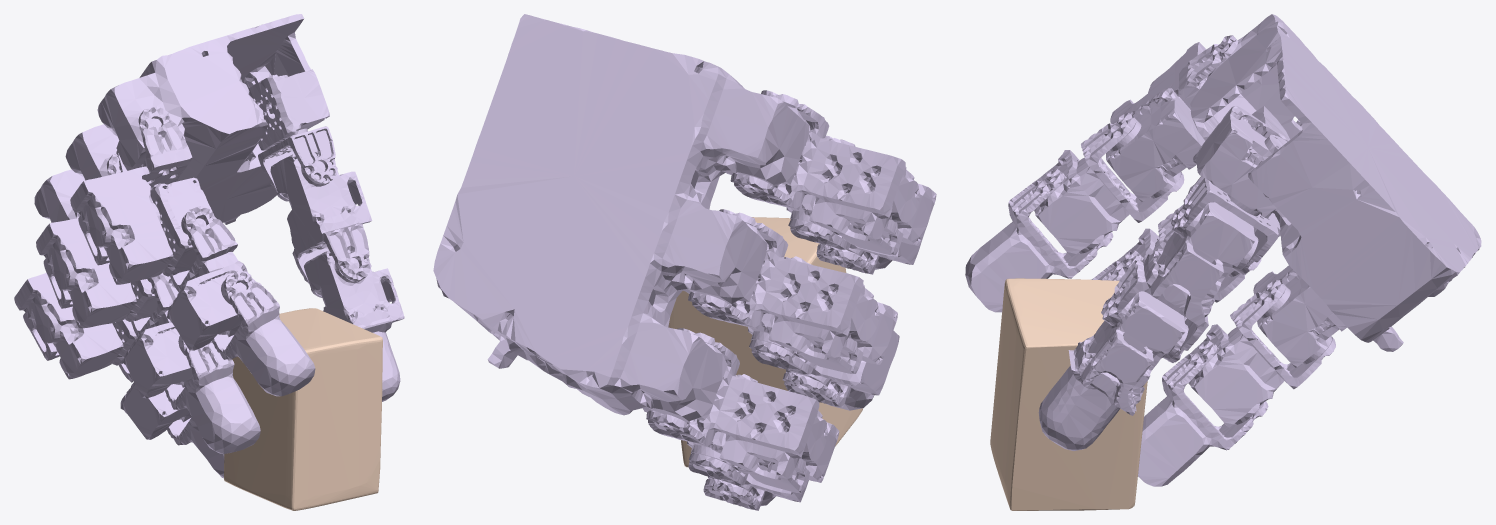
File: 48ef16fdfc0643-final.glb
The picture shows the model from 3 angles, left to right: view 1: azimuth 30°, elevation 25°; view 2: azimuth 150°, elevation 25°; view 3: azimuth 270°, elevation 25°; orthographic projection. The views are drawn at different scales.
Parts seen in each view (by area): view 1: LEAP_hand, world; view 2: LEAP_hand, world; view 3: LEAP_hand, world.
Boxes of the visible parts, x1=… form: LEAP_hand: x1=14, y1=14, x2=404, y2=478; world: x1=224, y1=308, x2=382, y2=510; LEAP_hand: x1=433, y1=14, x2=936, y2=510; world: x1=668, y1=217, x2=862, y2=467; LEAP_hand: x1=965, y1=14, x2=1481, y2=486; world: x1=990, y1=278, x2=1147, y2=510.
Bounding box in the file's own units: 0.1425 × 0.1972 × 0.2031.
